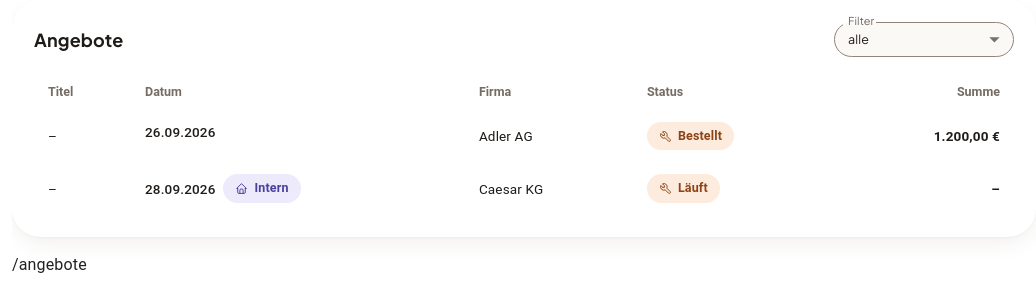
AngebotePage — Kennzeichen intern und Strich in der Summe (Issue #233) › ruft mit dem Filter „Laeuft" nur die laufenden ab und haelt ihn in der Adresse
This screenshot has width=1036, height=290.
Expected: the link "26.09.2026" is shown, left=145, top=122, right=215, bottom=142
Select "Läuft" in the dropdown labelled "Filter": (924, 40) left=834, top=22, right=1014, bottom=57
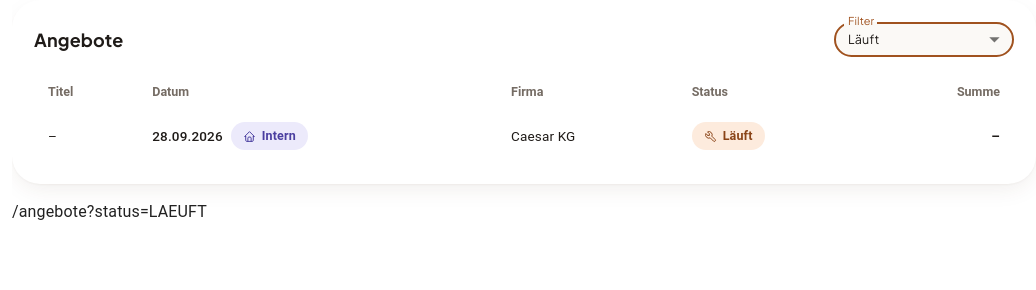
Expected: the link "28.09.2026" is shown, left=152, top=126, right=223, bottom=146
Result: the text with test id "adresse" reads "/angebote?status=LAEUFT" at left=12, top=202, right=207, bottom=222
Result: the link "26.09.2026" is gone
